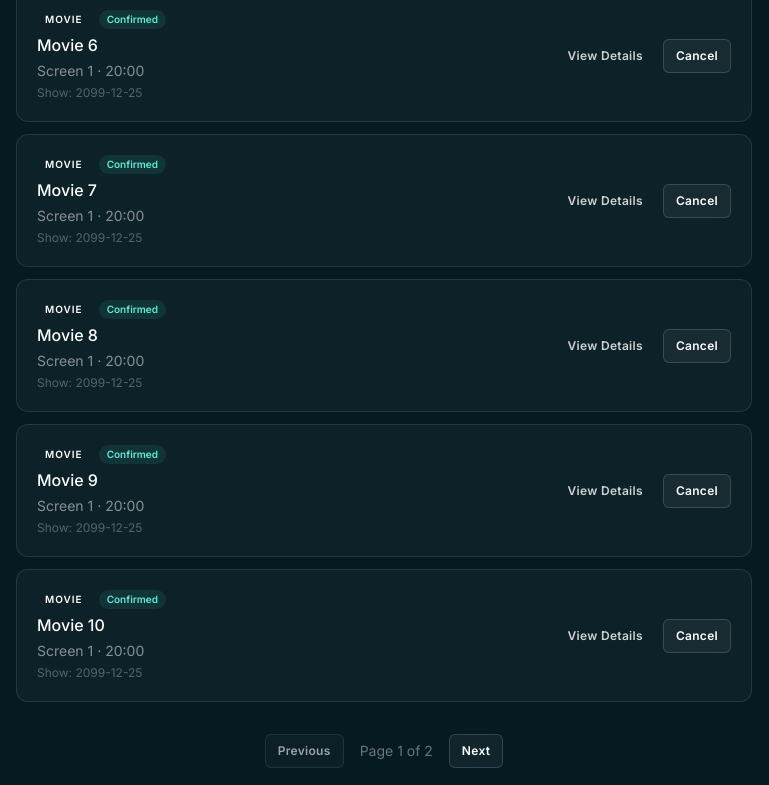
MyBookingsPage › pagination_next_page_shows_next_set
(page scrolled)
Expected: the text "Movie 11" is not shown
Click the button "Next". click: [476, 751]
box: [449,734,503,768]
(page scrolled)
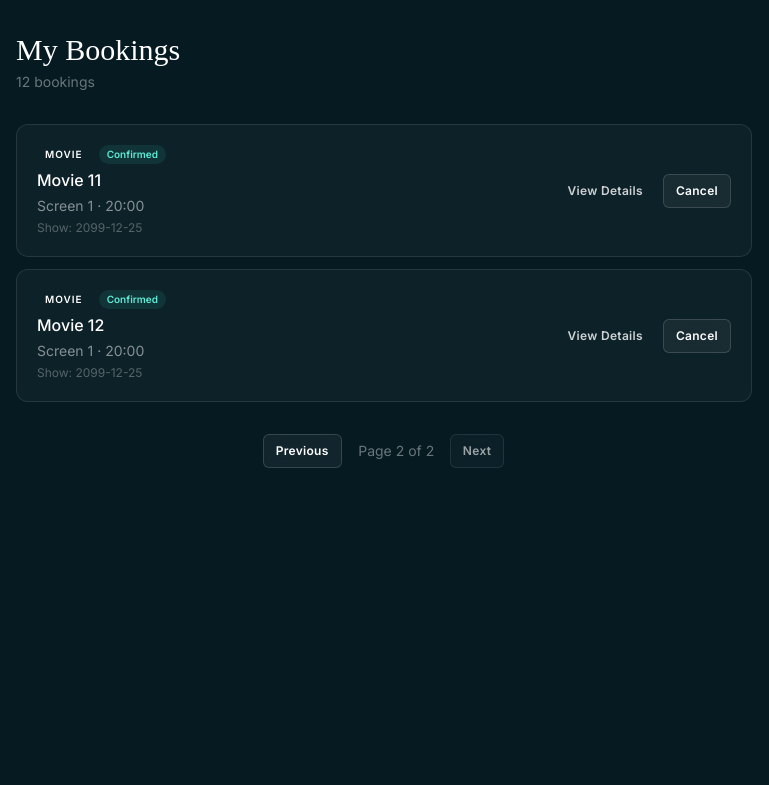
Expected: the text "Movie 11" is shown, [37,170,101,190]
